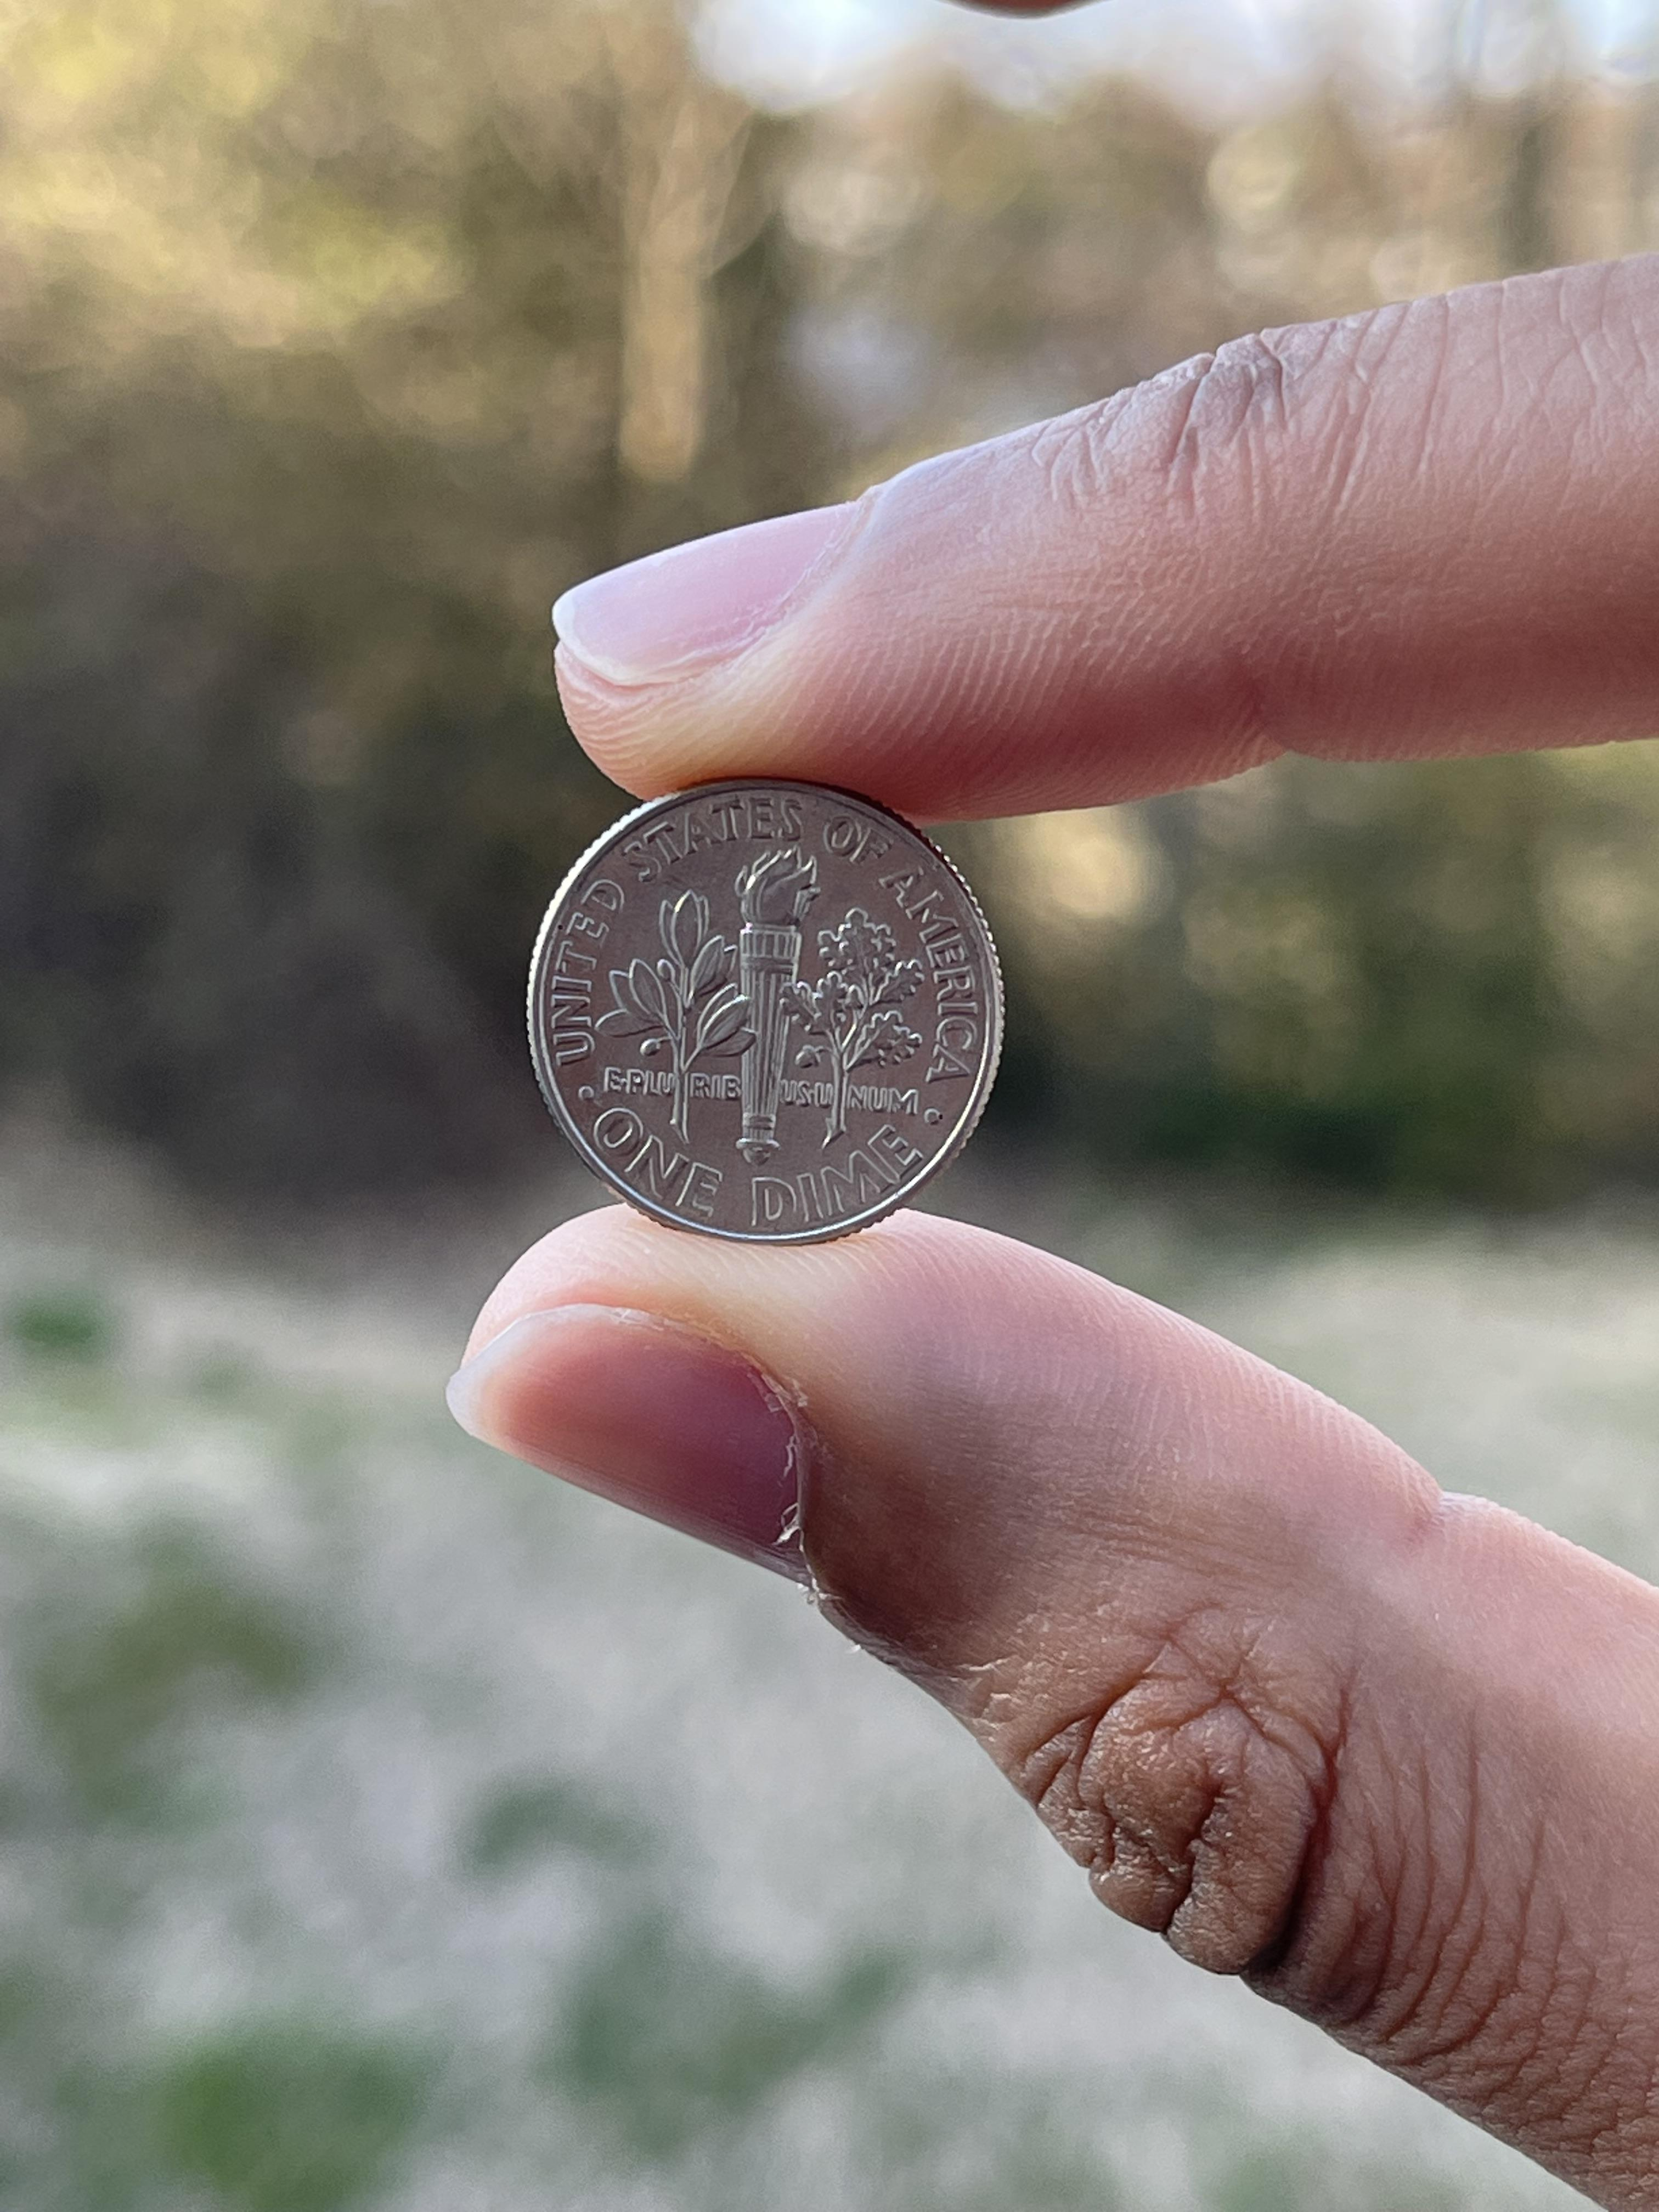Dime: (525, 773, 1007, 1247)
